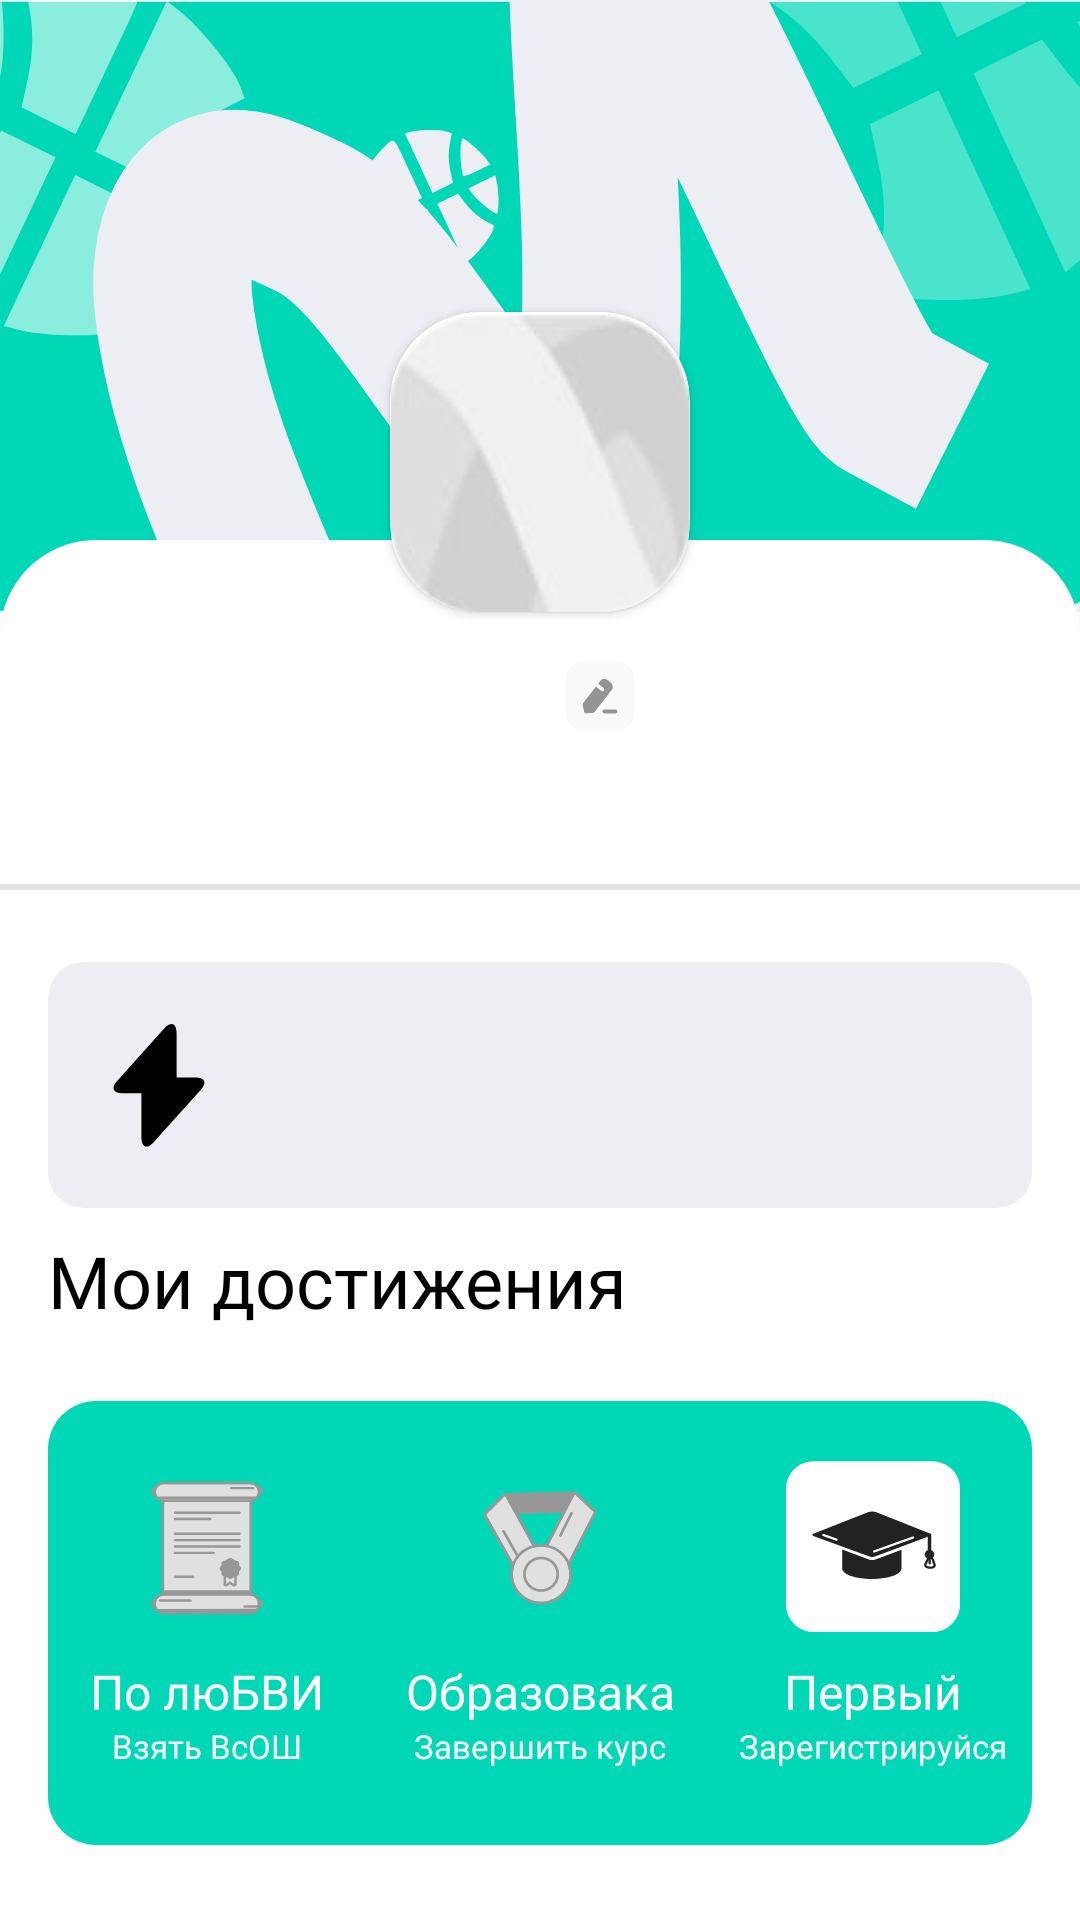

Screen size 1080 x 1920. Icon name, then its center in pixels as (x,y):
lightning: (159,1085)
